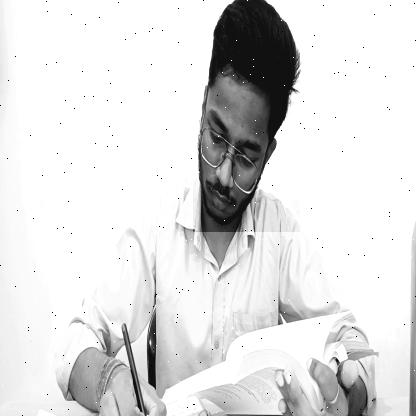Distracted: (193, 0, 300, 233)
